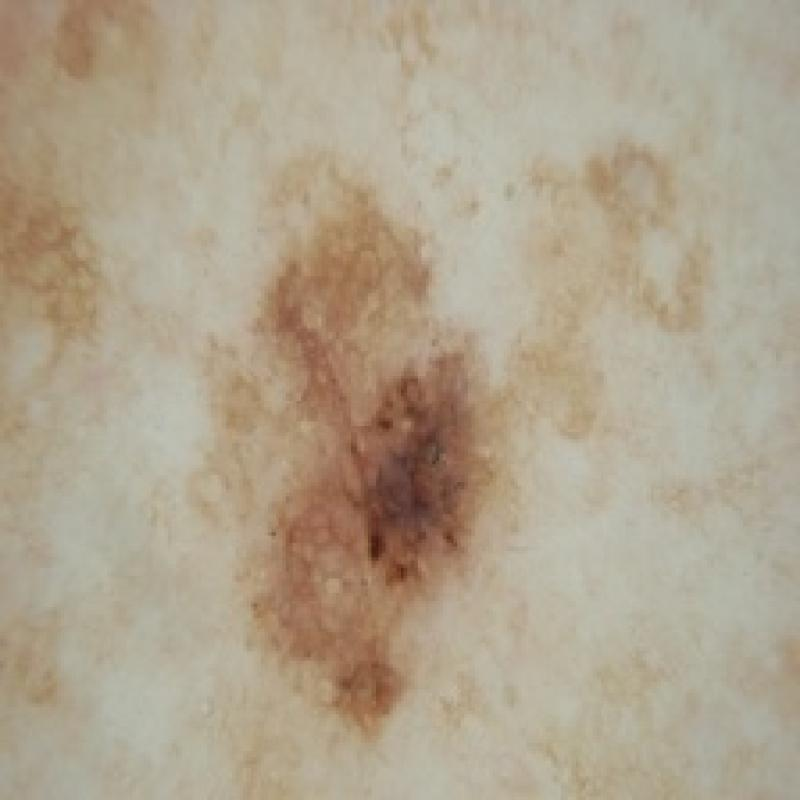malignant: (153, 116, 724, 768)
